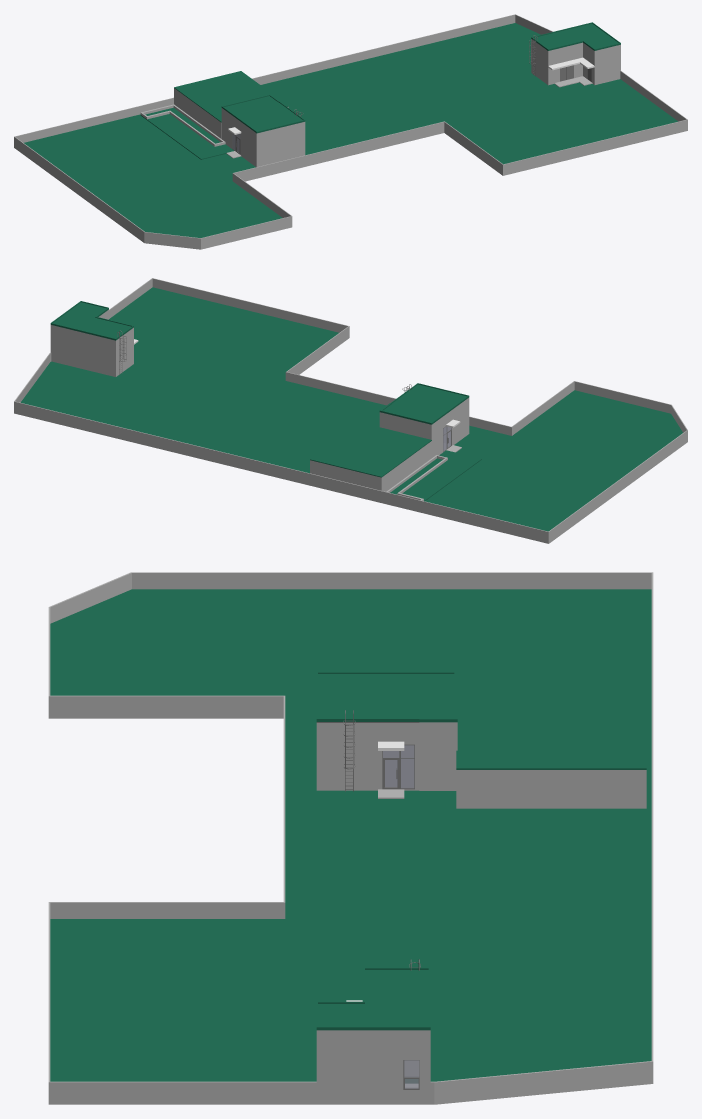
The picture shows the model from 3 angles, top to bottom: view 1: azimuth 30°, elevation 25°; view 2: azimuth 150°, elevation 25°; view 3: azimuth 270°, elevation 25°; orthographic projection. The views are drawn at different scales.
Visible parts, largest first — view 1: sen_roof_바닥, sen_roof_벽, sen_roof_02; view 2: sen_roof_바닥, sen_roof_벽, sen_roof_02; view 3: sen_roof_바닥, sen_roof_벽, sen_roof_02, sen_roof_유리문.
Part boxes in pixels (x1,y1,x2,y2): sen_roof_바닥: (24,23,677,237); sen_roof_벽: (14,14,687,249); sen_roof_02: (174,22,620,133); sen_roof_바닥: (21,287,682,531); sen_roof_벽: (14,278,687,543); sen_roof_02: (50,301,469,477); sen_roof_바닥: (50,589,651,1082); sen_roof_벽: (48,572,653,1104); sen_roof_02: (316,672,646,1030); sen_roof_유리문: (382,744,414,789).
Size of the model in its own units: 73.5 by 5.76 by 36.8.
